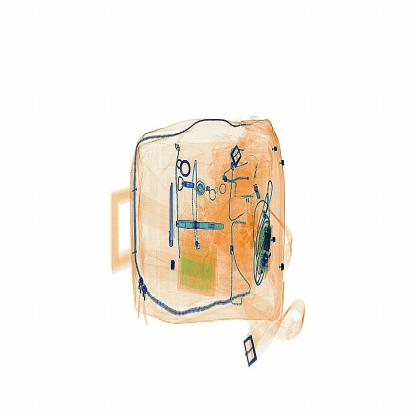pliers: (158, 167, 184, 253)
